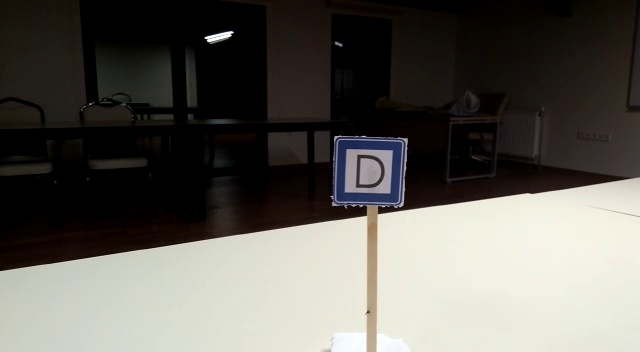durak: (334, 138, 405, 203)
